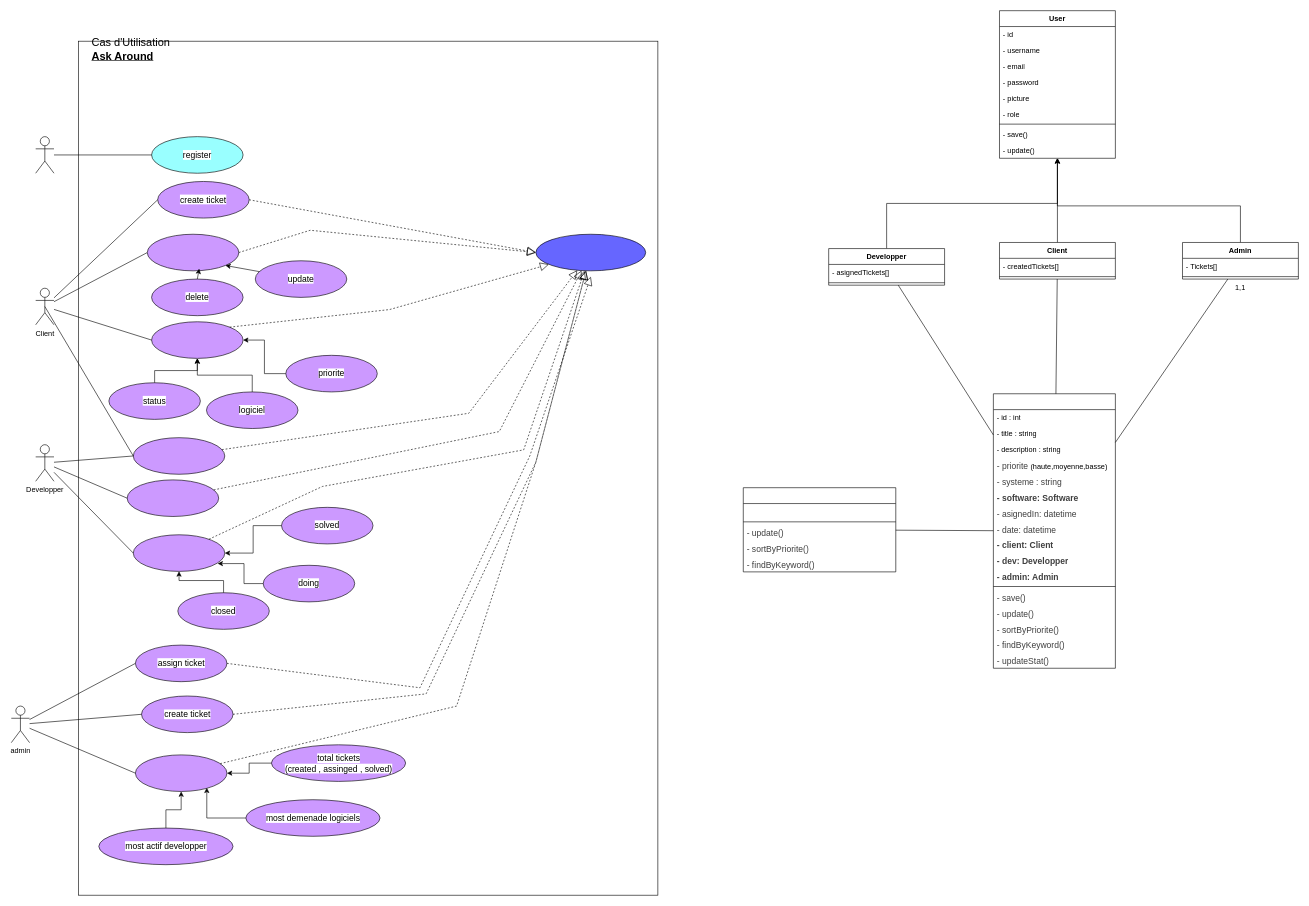
Some shapes in this 1309 by 906 pixel diagram are drawn without their labels. The box of each missing label's shape, as (x1, y1, x2, y2) in pixels:
Authentification: (535, 234, 646, 271)
Guest: (35, 136, 54, 173)
handle ticket: (147, 234, 239, 271)
see asinged tikets: (127, 479, 219, 516)
see profile: (133, 437, 225, 474)
Software: (743, 487, 896, 572)
sort by: (151, 321, 243, 358)
statistic: (135, 754, 227, 791)
Ticket: (993, 393, 1115, 668)
update state: (133, 534, 225, 571)
